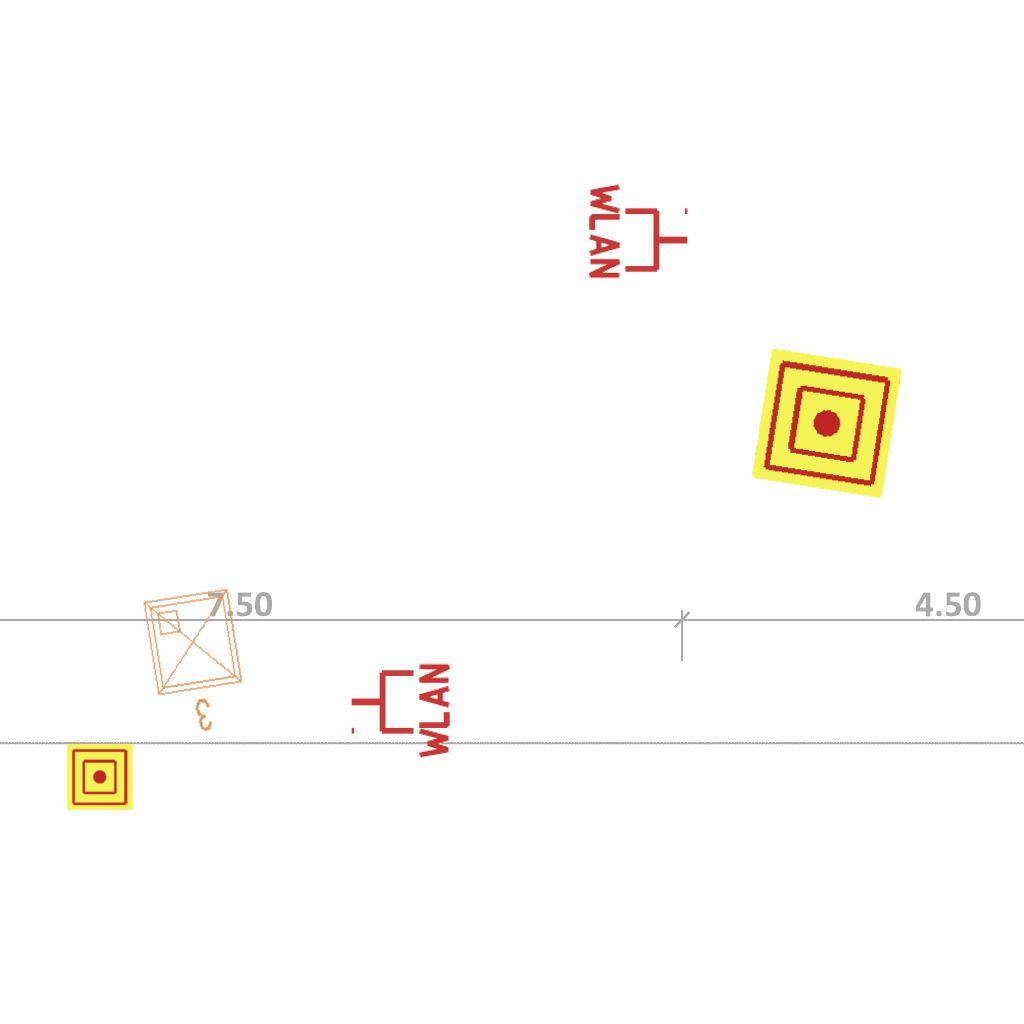Einbaudownlights_LED_Konferenzraeume: (134, 579, 262, 745)
NAM-Nichtautomatischer_Melder: (751, 347, 903, 499), (67, 744, 133, 810)
WLAN: (587, 179, 692, 283), (347, 659, 452, 763)
